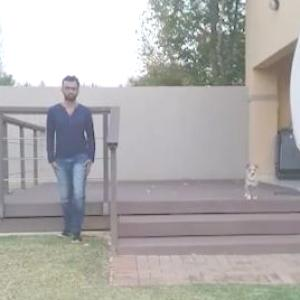follow: (47, 68, 97, 250)
